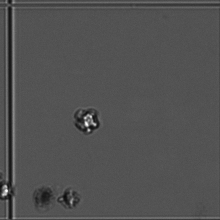Dead Cell: (31, 185, 59, 212), (59, 186, 84, 212)
Living Cell: (72, 105, 101, 136), (1, 179, 18, 206)
